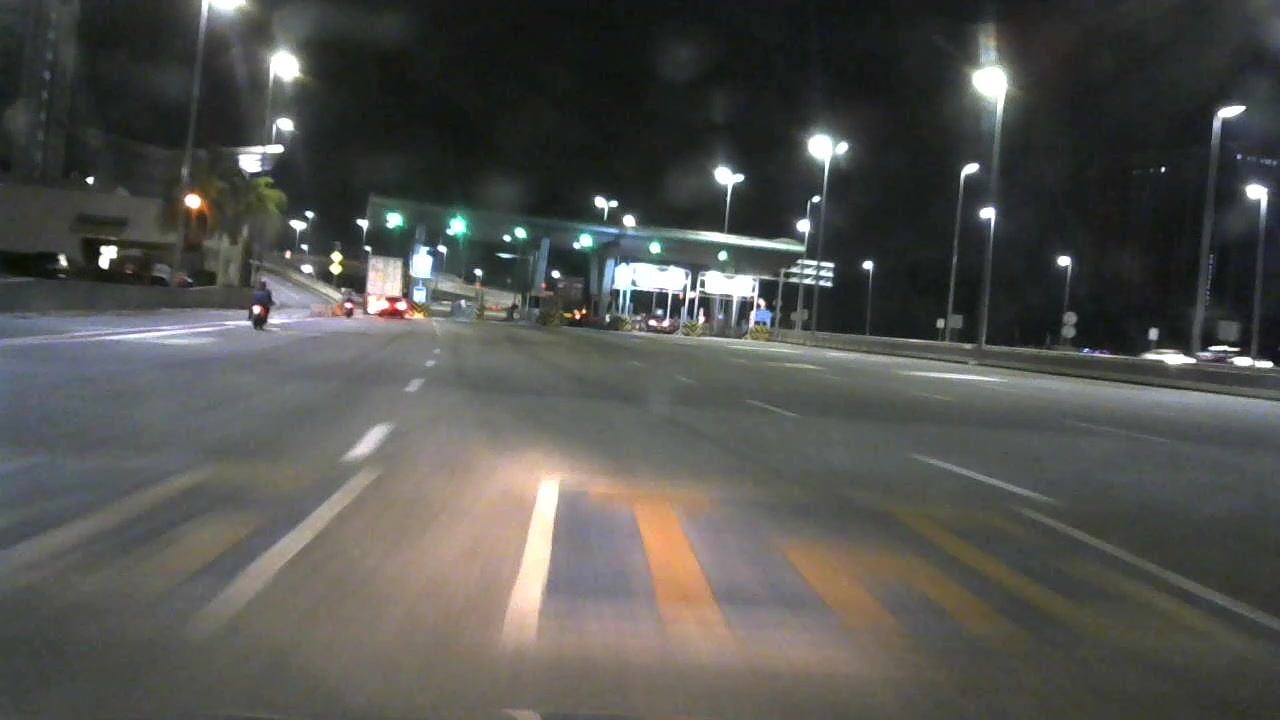Car: (368, 292, 418, 323), (640, 308, 676, 336)
